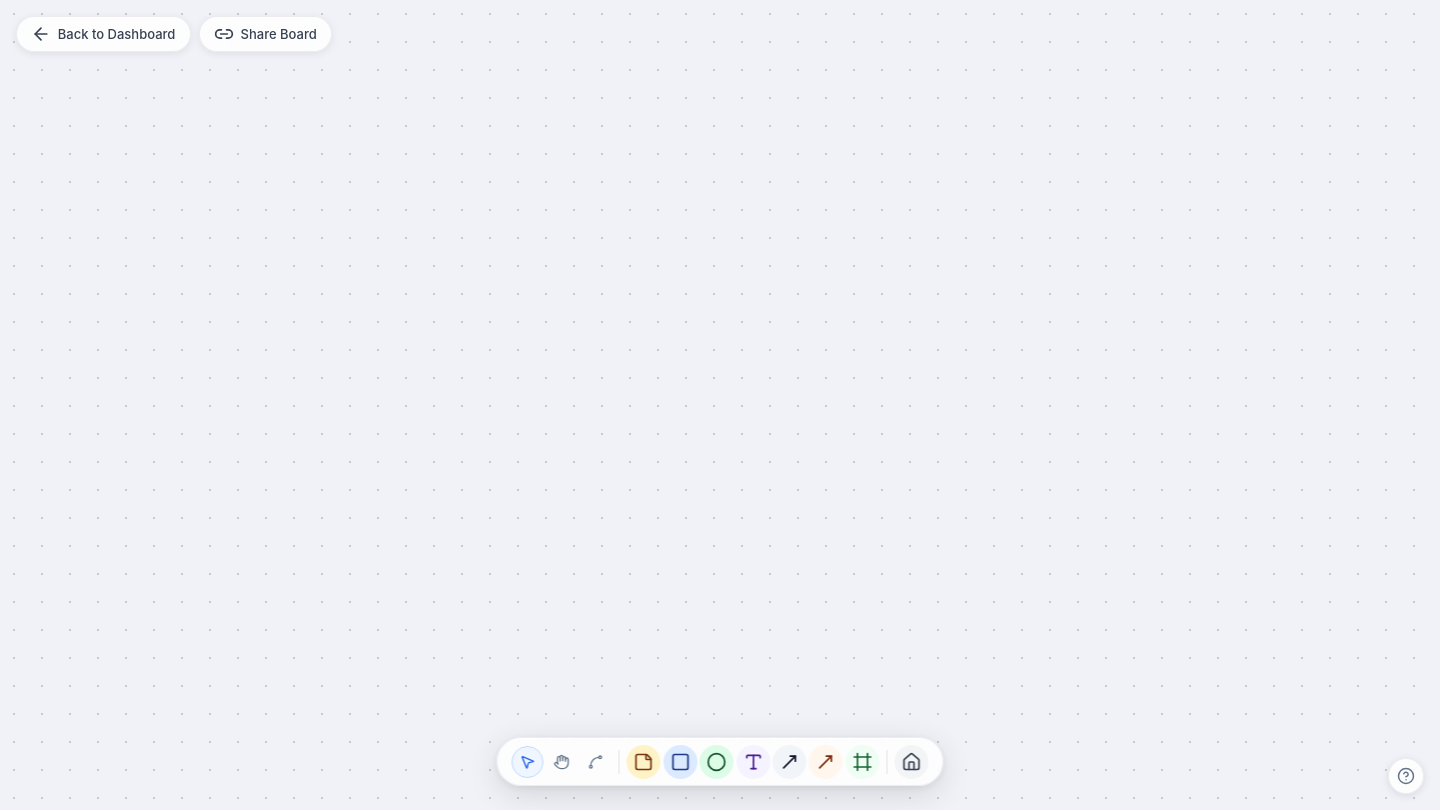
Test: Whiteboard — add shapes › adds a sticky note when clicking the Sticky toolbar button
// Click Add Sticky Note button (accessible name is "Sticky" from button label)
Click the button named "Sticky". click: (644, 762)
box: [627,745,661,779]
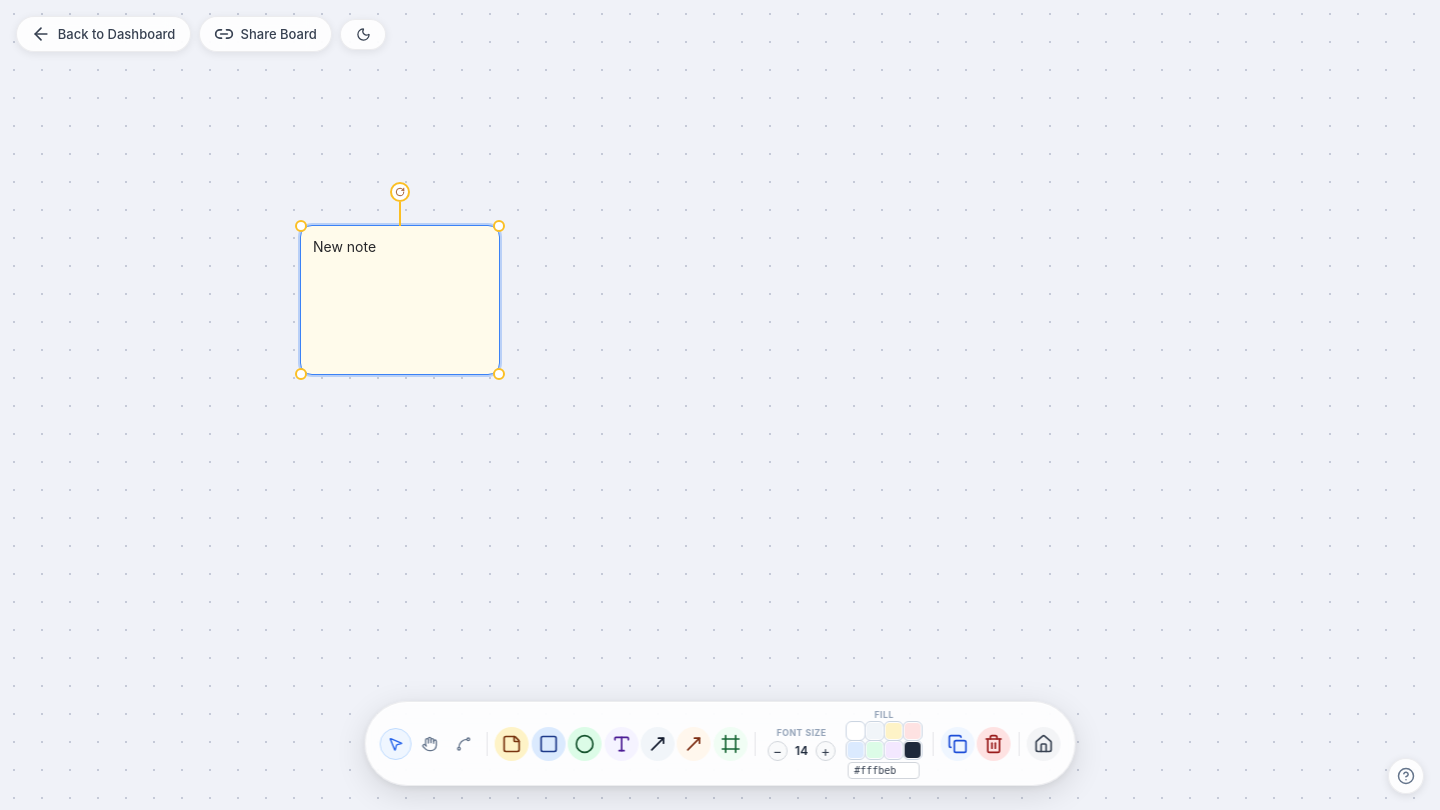
Result: the text "New note" is shown at [313,238,376,255]
